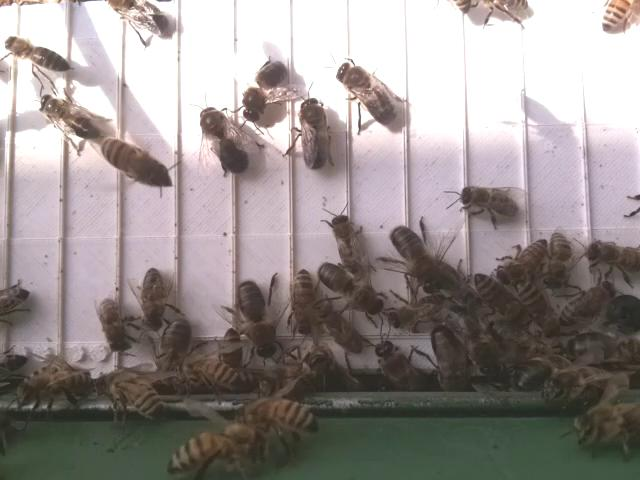Drone: (334, 58, 397, 128), (388, 225, 449, 297), (198, 103, 251, 178), (316, 260, 386, 316), (236, 279, 280, 360), (241, 56, 290, 124), (157, 314, 194, 394), (296, 96, 334, 172), (429, 320, 468, 393)
Worker: (35, 92, 101, 140), (556, 279, 616, 331), (3, 34, 71, 75), (98, 136, 157, 182), (495, 237, 548, 286), (458, 183, 523, 222), (286, 267, 318, 340), (584, 235, 640, 273), (331, 210, 363, 275), (545, 230, 578, 291), (99, 291, 132, 351), (141, 266, 169, 331)
